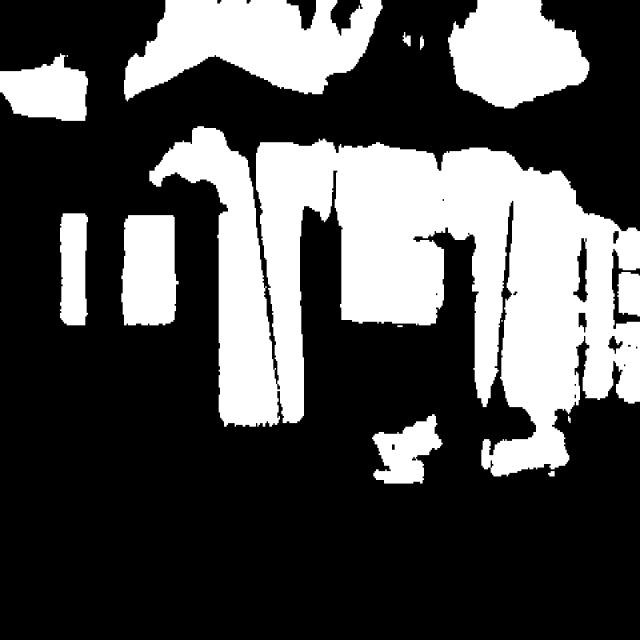fire: (150, 145, 640, 510), (121, 7, 393, 126), (42, 197, 199, 360), (434, 1, 596, 130), (1, 46, 130, 150)
